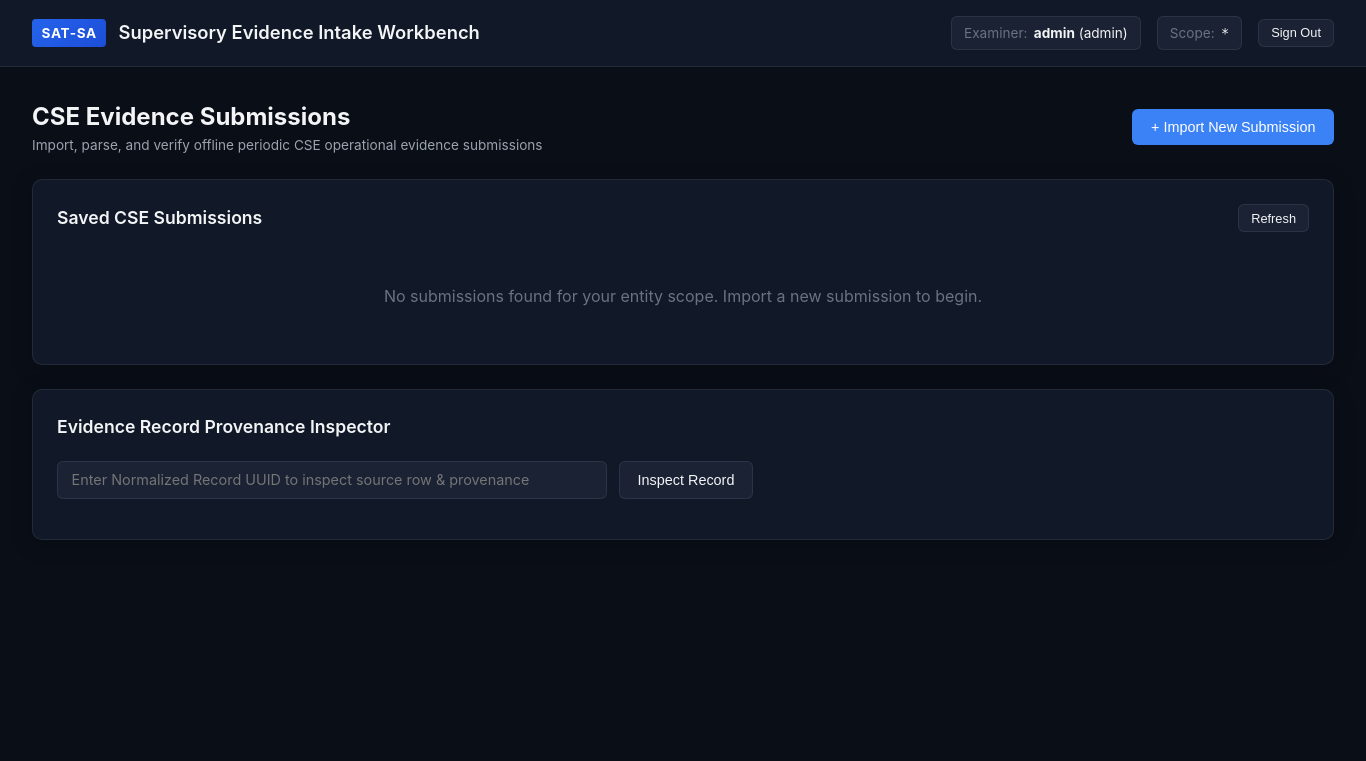
Test case: SubmissionPage UI Workbench Flow › inspects record provenance displaying raw vs normalized payloads
The image size is (1366, 761).
Expected: the heading "Evidence Record Provenance Inspector" is shown, [57,414,391,441]
Replace the text in the field with placeholder "Enter Normalized Record UUID" with "rec-test-uuid": point(332, 480) [57,460,607,499]
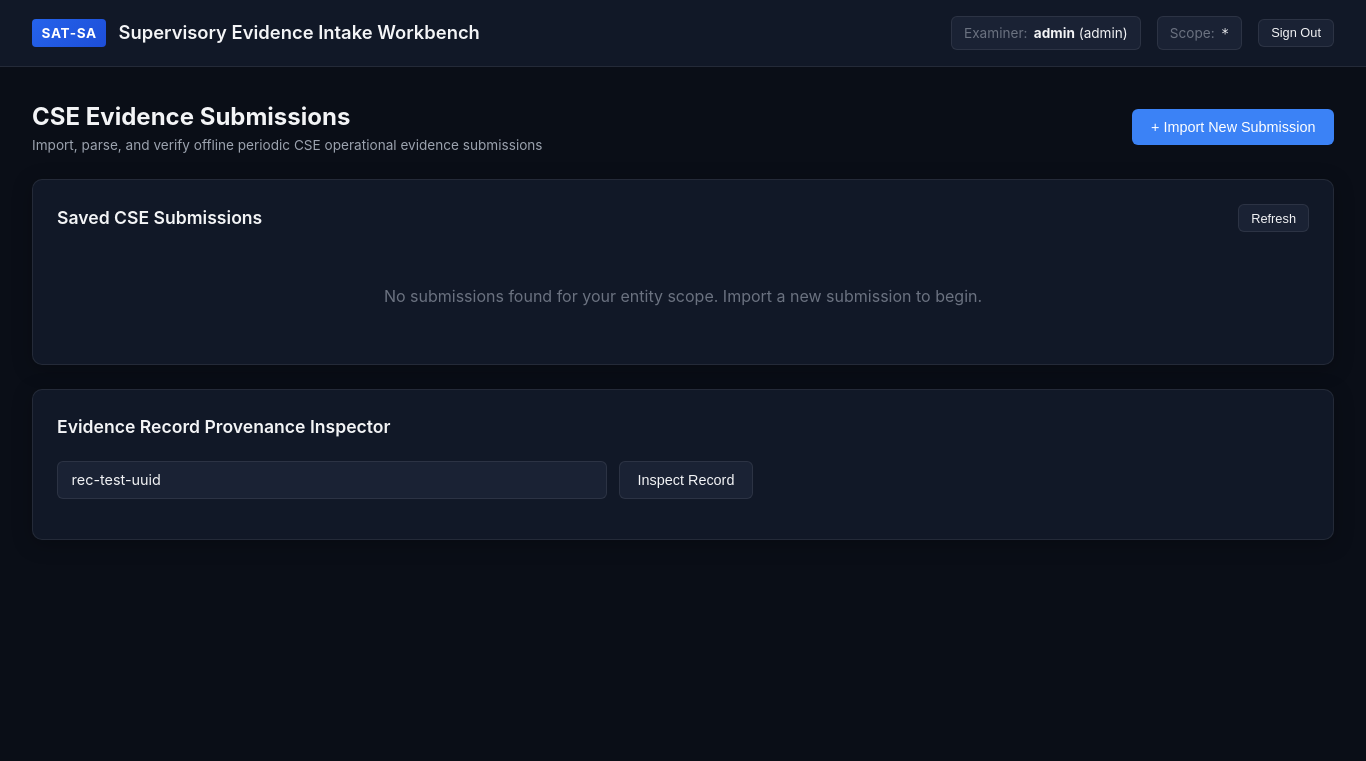
Click the button "Inspect Record": point(686, 480) [619,460,753,499]
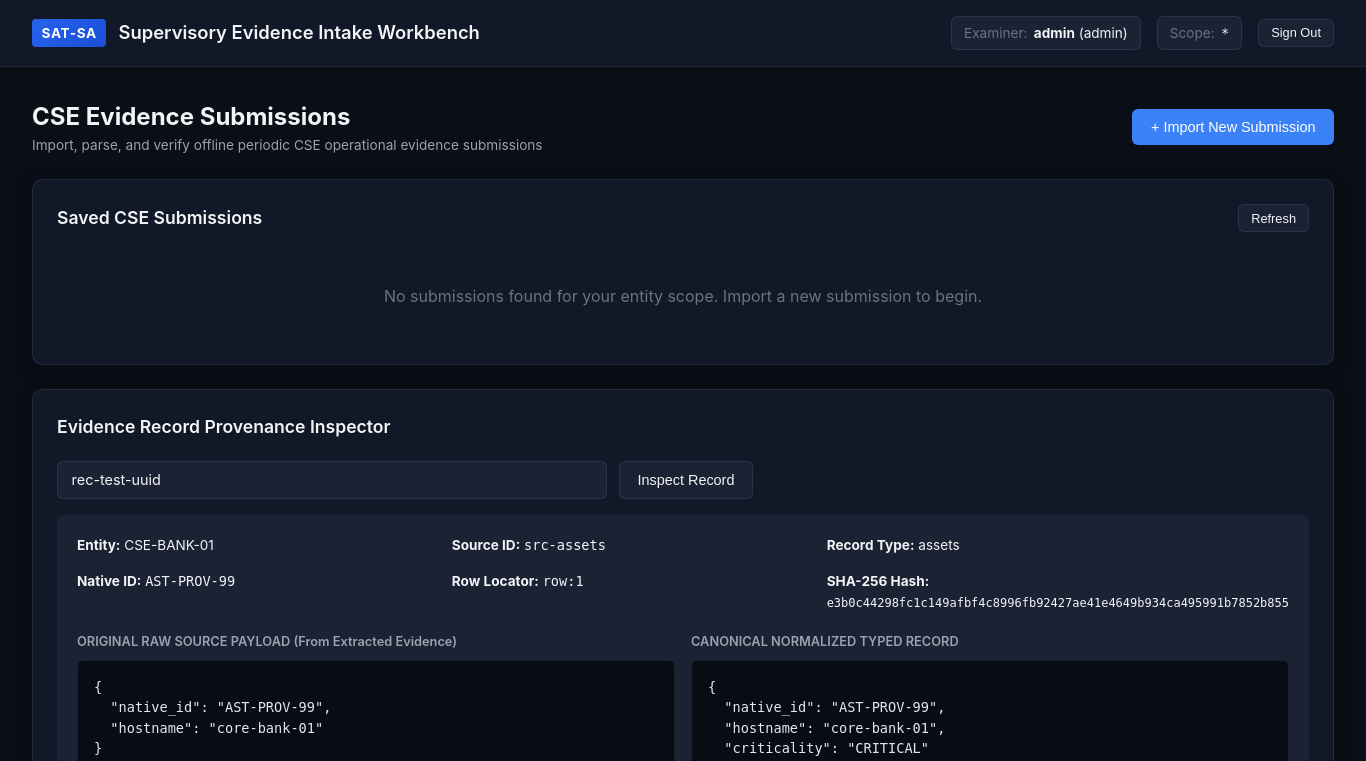
Now the text "ORIGINAL RAW SOURCE PAYLOAD (From Extracted Evidence)" is shown, box [77,634,457,649]
Now the text "CANONICAL NORMALIZED TYPED RECORD" is shown, box [691,634,959,649]
Now the text "AST-PROV-99" is shown, box [145,573,235,589]
